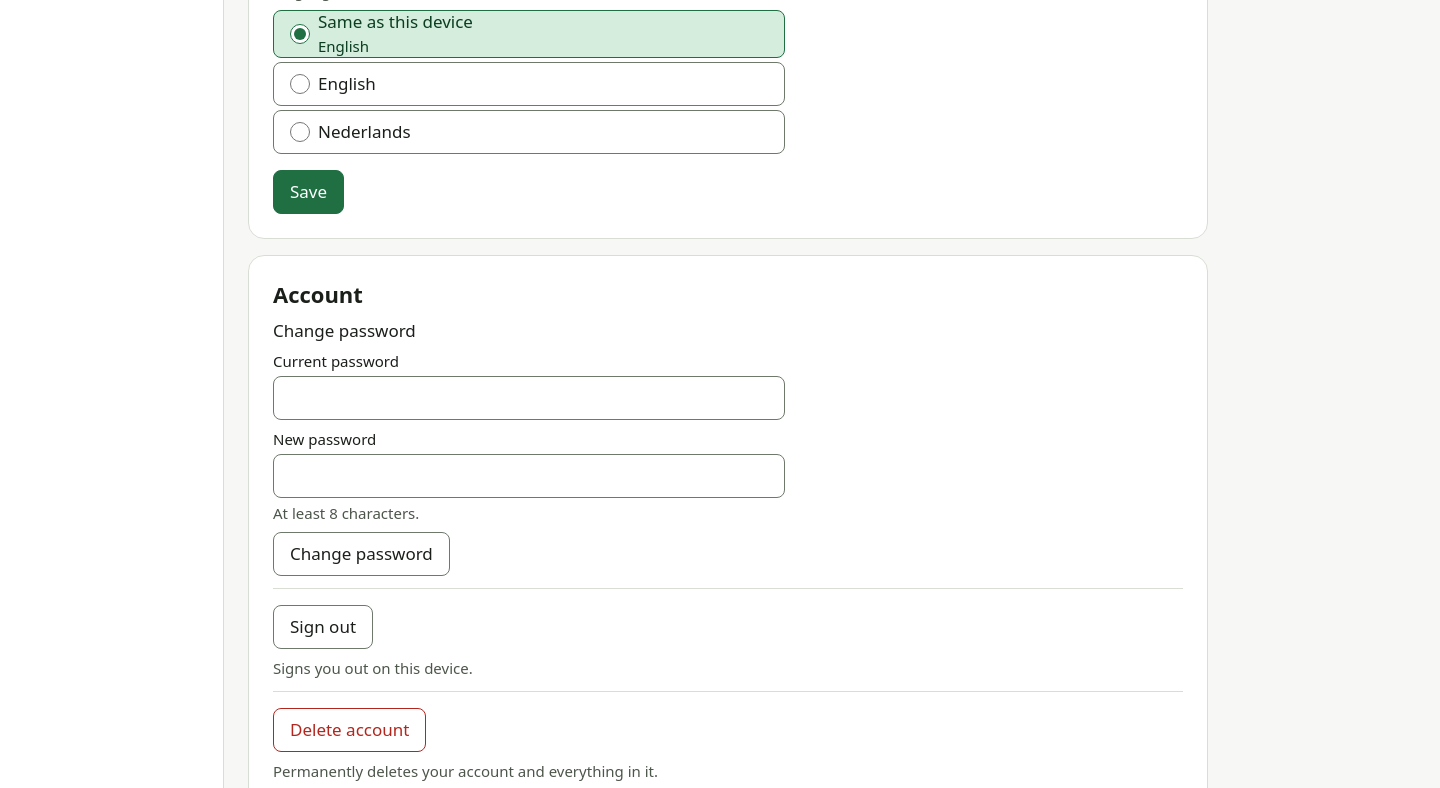
profile (#111) › shows a wrong current password next to it, and stays signed in
(page scrolled)
Type "wrong one" into the password field labelled "Current password" at {"x": 529, "y": 398}, box x1=273 y1=376 x2=785 y2=420
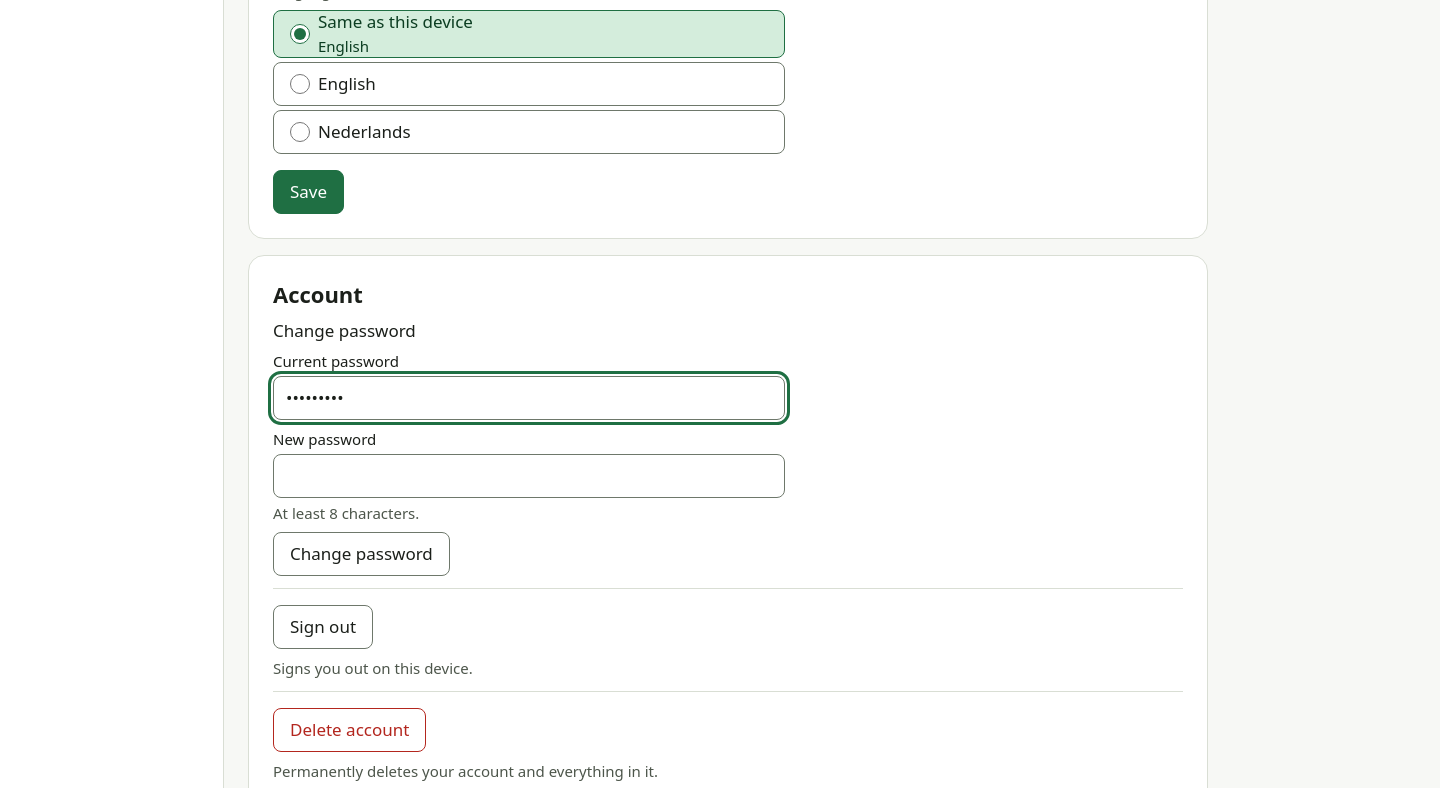
Type "a brand new passphrase" into the password field labelled "New password" at {"x": 529, "y": 476}, box x1=273 y1=454 x2=785 y2=498
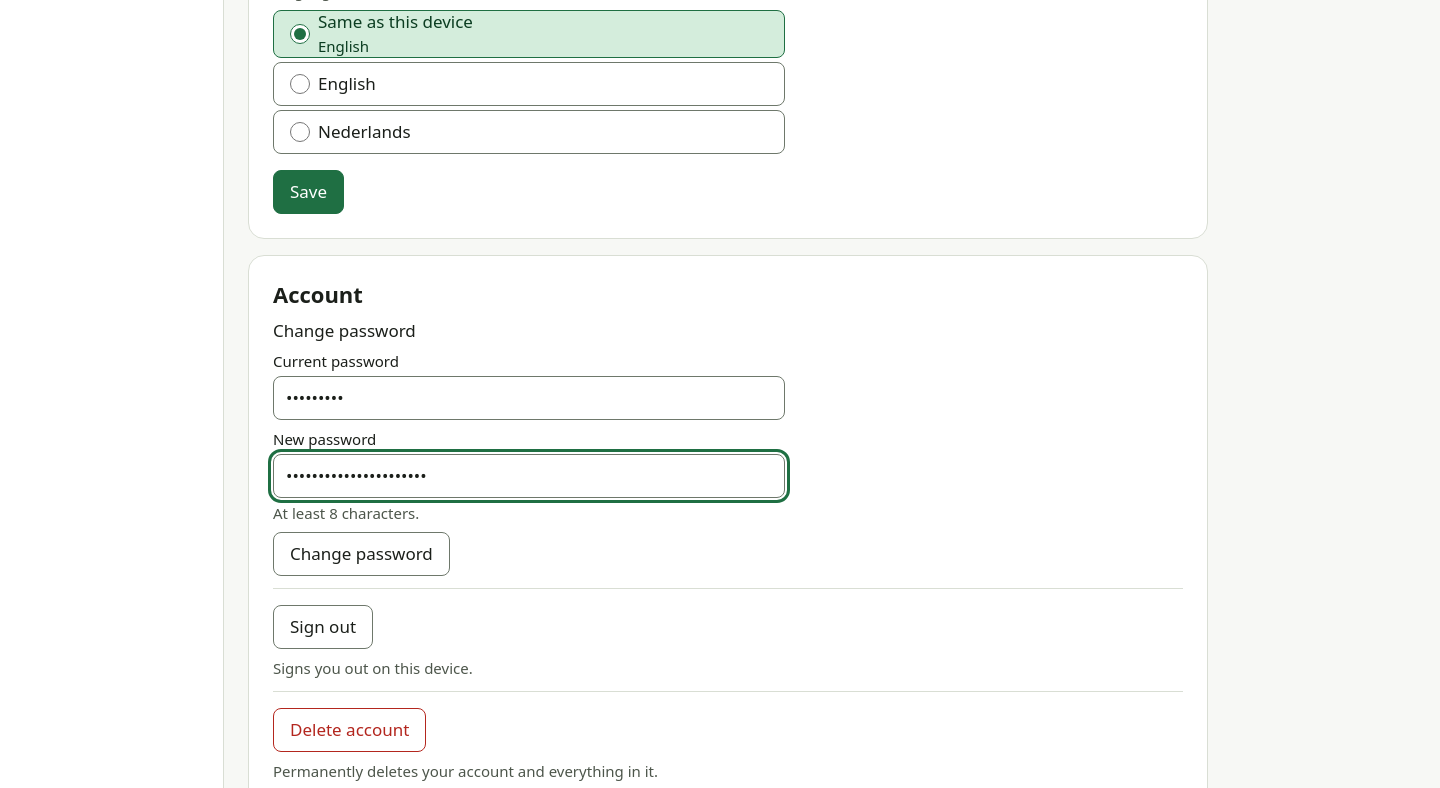
Click the button "Change password" at {"x": 361, "y": 554}, box x1=273 y1=532 x2=450 y2=576
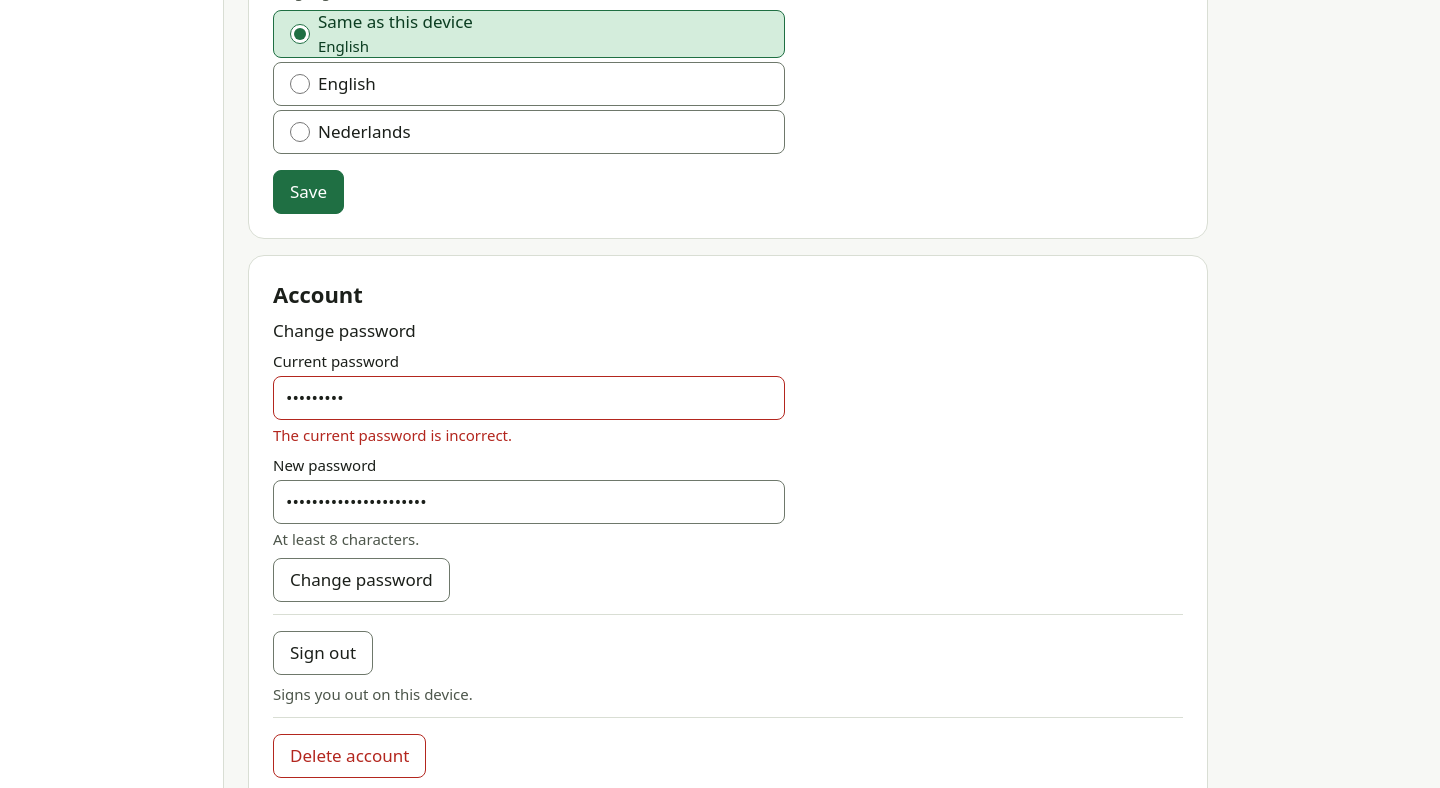
expect the text "The current password is incorrect." is shown: met, box x1=273 y1=425 x2=512 y2=445
